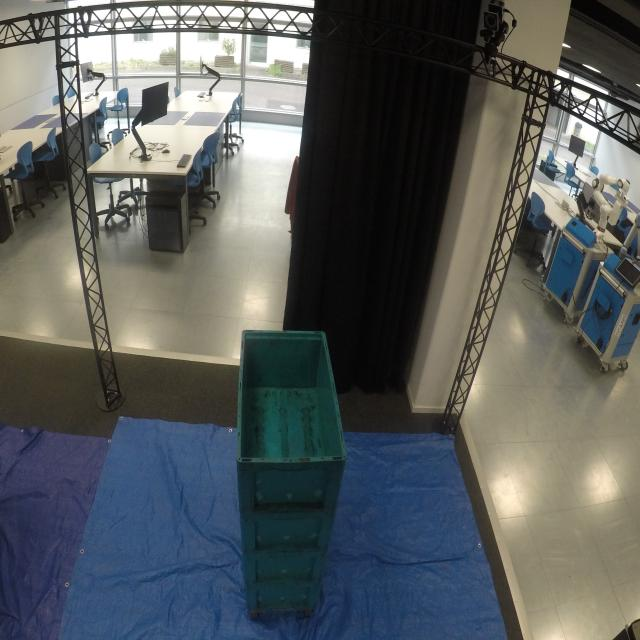BoxB4: (232, 323, 344, 507), (233, 494, 341, 553), (239, 549, 333, 584), (242, 581, 324, 617)
